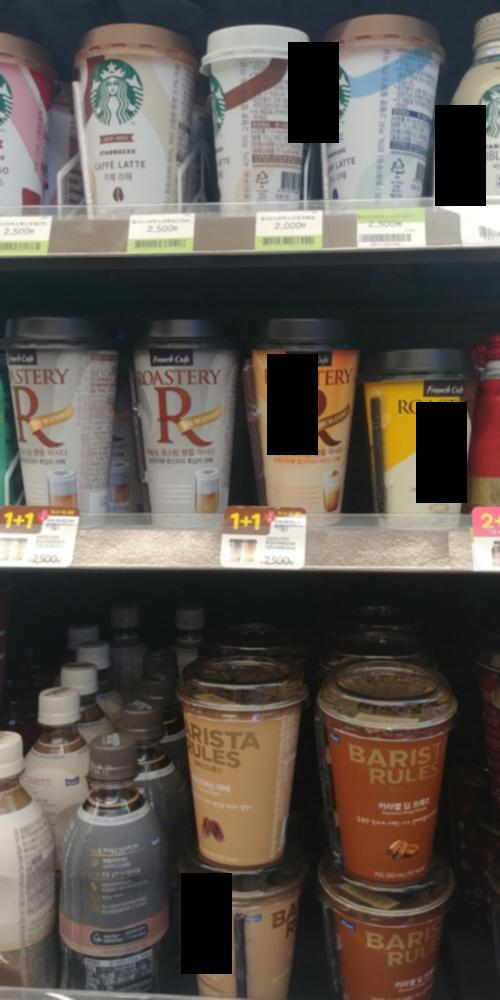baristarules_espressolatte: (176, 653, 308, 870)
starbucks_cafelatte: (68, 10, 184, 209)
